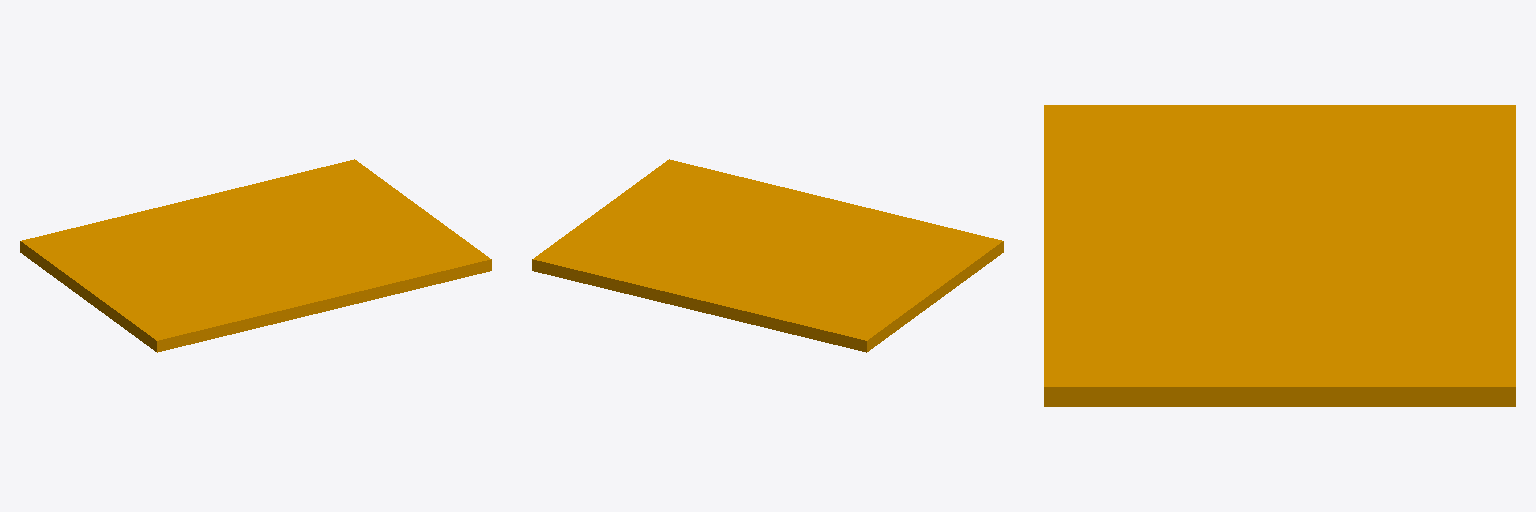
URDF robot description (ar_tag):
<robot name = "ar_tag">
    <link name="simple_box_base_link">
        <inertial>
            <origin xyz="0 0 0" rpy="0 0 0"/>
            <mass value="1.0" />
            <inertia ixx="0.0741666666667" ixy="0.0" ixz="0.0" iyy="0.0585416666667" iyz="0.0" izz="0.026041666667"/>
        </inertial>
        <collision>
            <origin xyz="0 0 0" rpy="0 0 0"/>
            <geometry>
                <box size="0.3 0.3 0.3"/>
            </geometry>
        </collision>
        <visual>
            <origin rpy="0.0 0 0" xyz="0 0 0"/>
            <geometry>
                <mesh filename="package://ar_tag_demo/meshes/ar_tag_0_to_3.dae"/>
            </geometry>
        </visual>   
    </link>
    
    <gazebo reference="simple_box_base_link">
        <kp>100000.0</kp>
        <kd>100000.0</kd>
        <mu1>0.1</mu1>
        <mu2>0.1</mu2>
        <fdir>1 0 0</fdir>    
    </gazebo>
</robot>

--- Facts derived from the render (not from the file) ---
3 views of the same robot in one strip: view 1: azimuth 30°, elevation 25°; view 2: azimuth 150°, elevation 25°; view 3: azimuth 270°, elevation 25° (orthographic).
Robot: ar_tag — 1 links, 0 joints (none); root link simple_box_base_link; default pose: all joints at 0.
Visible links, largest first — view 1: simple_box_base_link; view 2: simple_box_base_link; view 3: simple_box_base_link.
Link boxes in pixels (<box>): simple_box_base_link: <box>20,159,491,352</box>; simple_box_base_link: <box>532,159,1003,352</box>; simple_box_base_link: <box>1044,105,1515,406</box>.
Size in the robot's own frame: 0.297 by 0.21 by 0.01 metres.
Meshes: 1 distinct files referenced, 1 mesh visuals loaded (1 Collada DAE).
